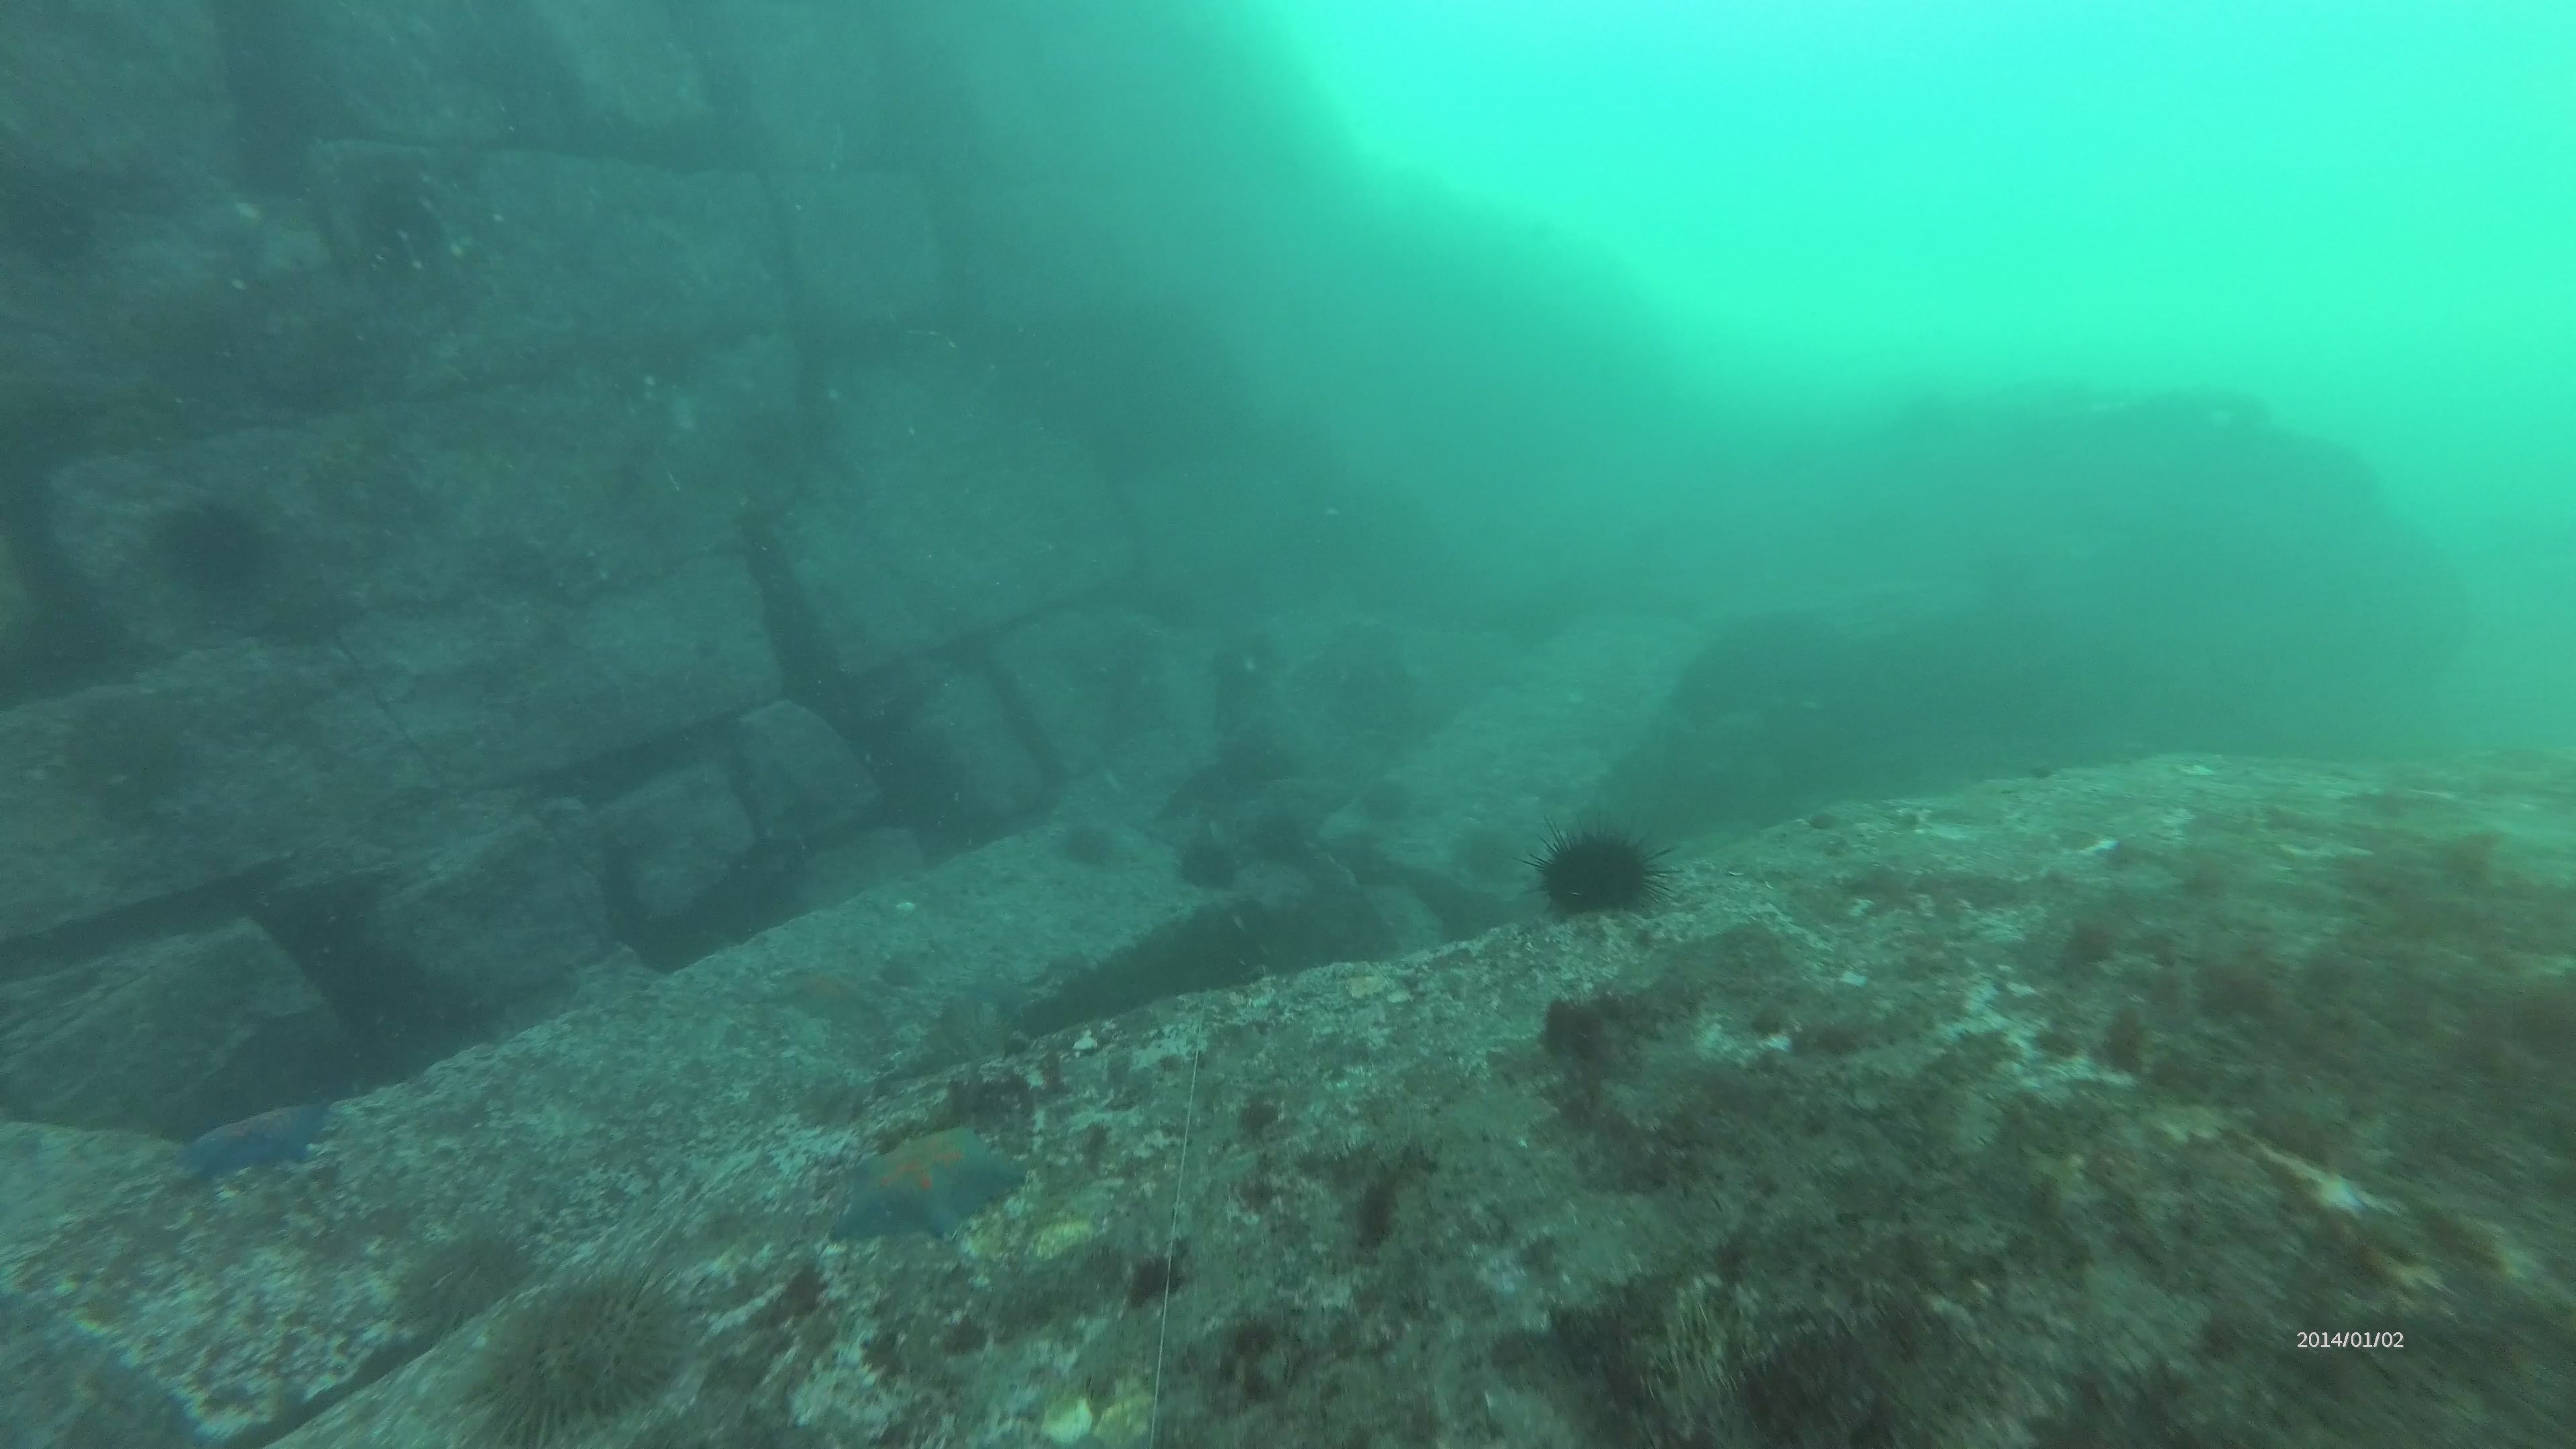echinus: (474, 1265, 692, 1444), (1529, 816, 1668, 922), (159, 494, 269, 591), (1168, 839, 1235, 895), (1246, 810, 1302, 865)
starfish: (842, 1116, 1021, 1253), (179, 1104, 329, 1182)
